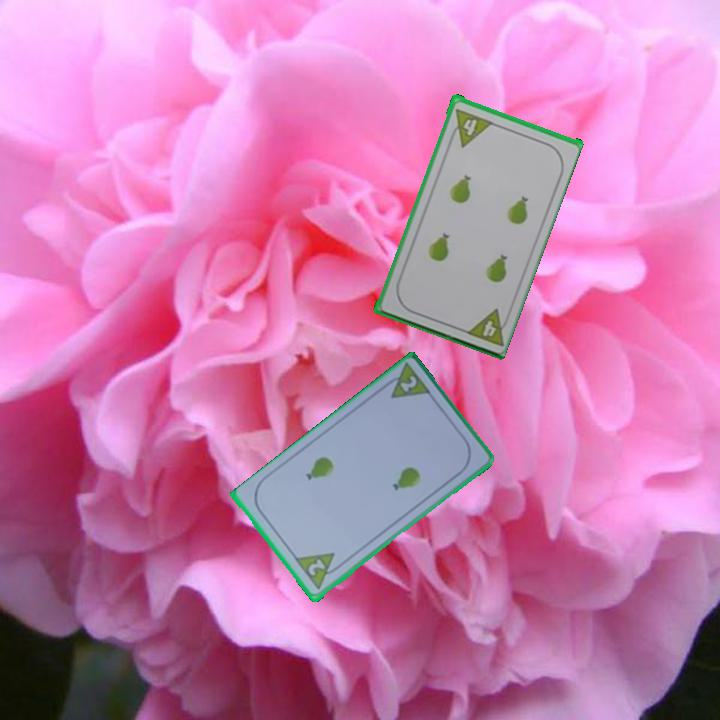2p: (396, 372, 420, 396), (304, 556, 328, 579)
4p: (461, 304, 513, 349), (445, 105, 494, 149)
